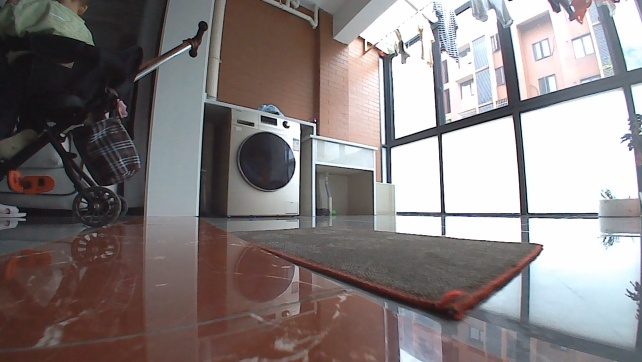blanket: (229, 223, 543, 321)
sofa1: (0, 122, 120, 215)
washing_machine: (214, 108, 302, 218)
